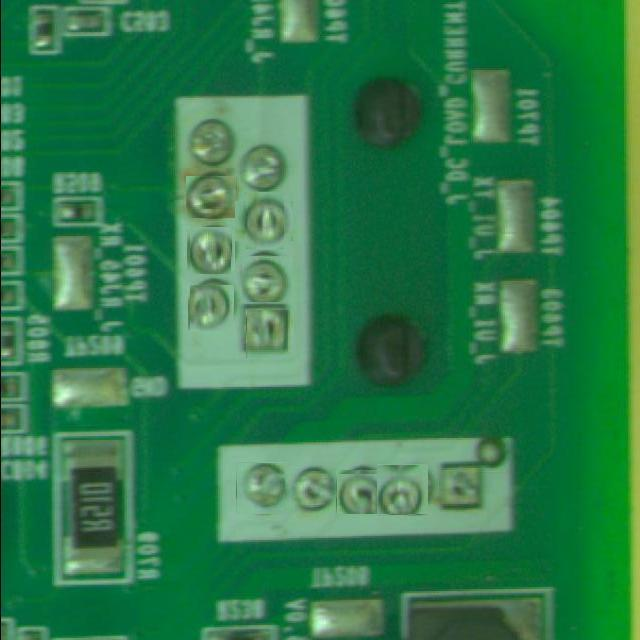lack_of_part: (377, 465, 428, 515), (236, 462, 285, 514), (240, 197, 289, 246), (290, 466, 337, 516), (242, 256, 292, 302), (246, 311, 294, 358), (188, 285, 234, 331), (186, 176, 236, 218), (188, 228, 234, 273), (336, 470, 381, 514)
